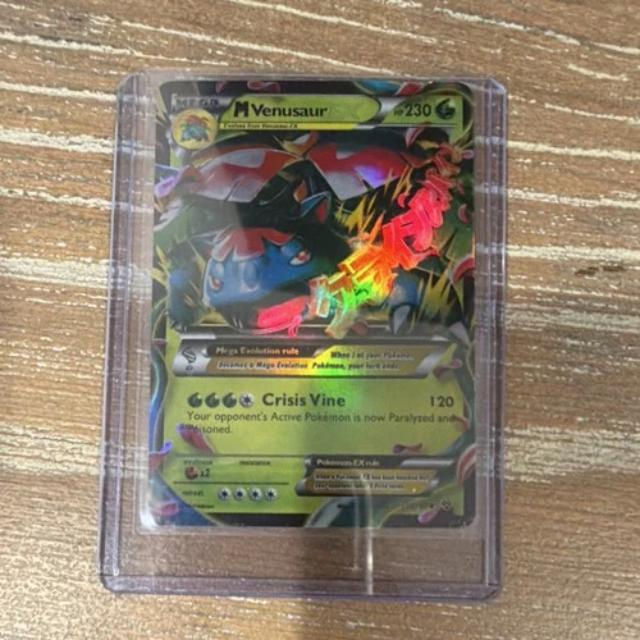Card: (135, 74, 482, 535)
Name: (223, 93, 371, 127)
